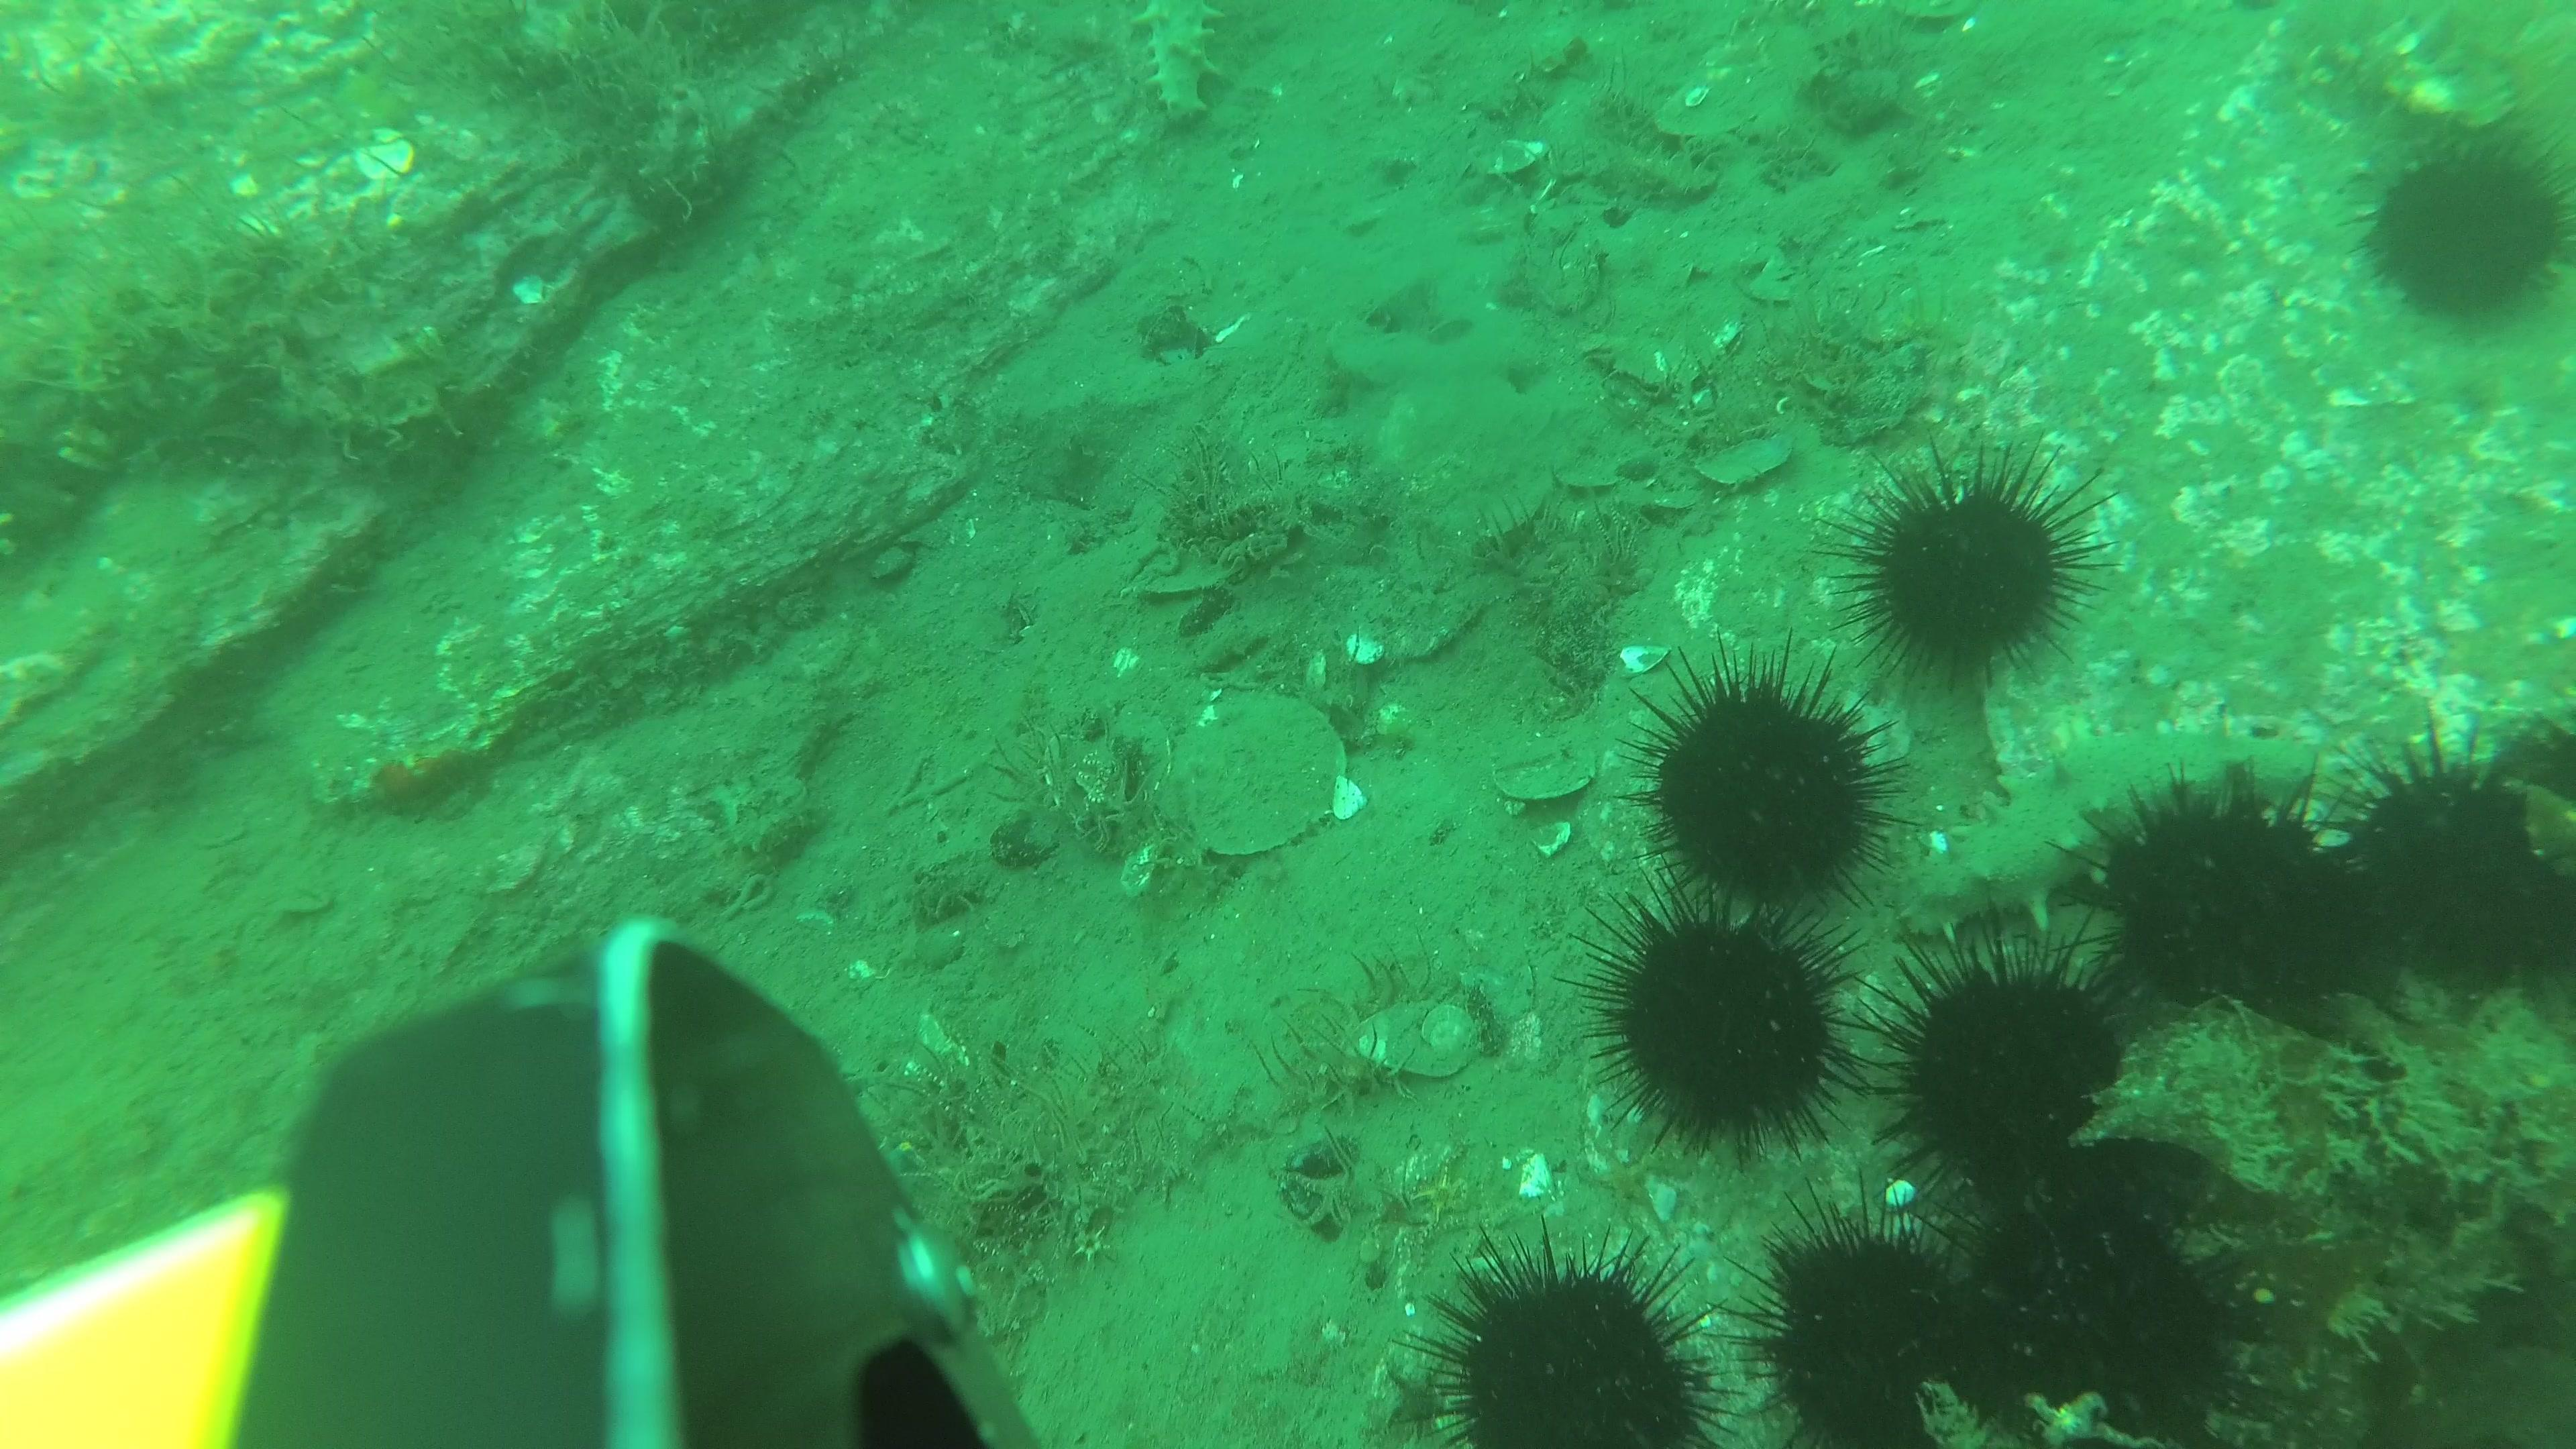echinus: (1560, 865, 1868, 1182), (1635, 626, 1904, 936), (1867, 918, 2150, 1210), (1815, 430, 2118, 697), (2079, 768, 2357, 1058), (1407, 1228, 1732, 1449), (1736, 1182, 1989, 1449), (1960, 1214, 2243, 1449), (2351, 718, 2549, 1008), (2358, 129, 2576, 341), (2502, 725, 2576, 989)
holothurian: (1141, 0, 1224, 127)
scallop: (1180, 699, 1341, 858), (1352, 1001, 1484, 1081), (1495, 741, 1596, 805)
